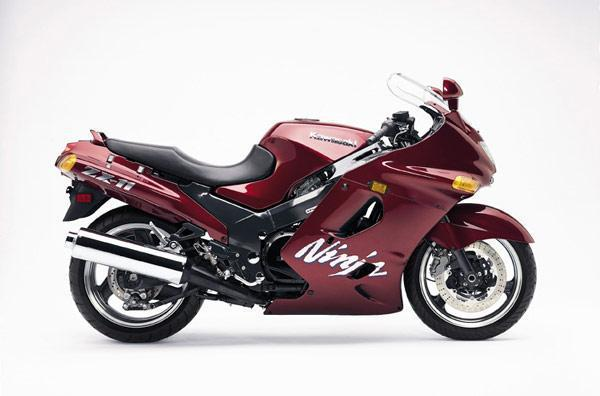motorcycle: (50, 74, 554, 351)
